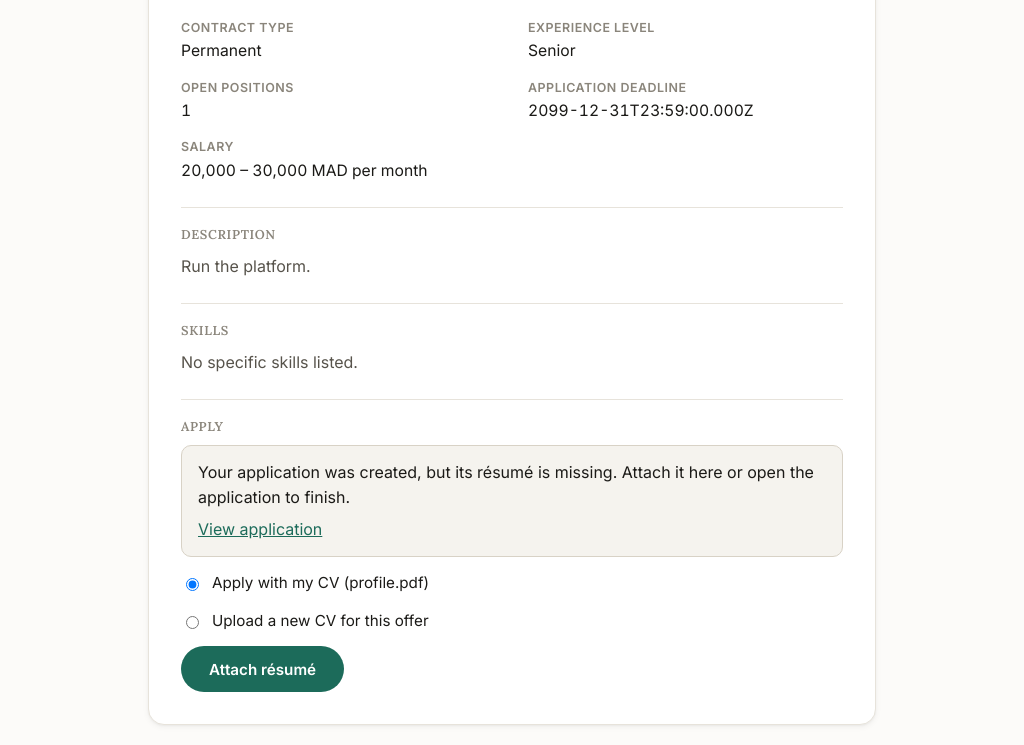
Test: a candidate › finds an incomplete application after reload and attaches without creating another
This screenshot has width=1024, height=745.
(page scrolled)
Expected: the text "Your application was created, but its résumé is missing. Attach it here or open the application to finish." is shown, left=198, top=462, right=814, bottom=507
Step 1. Click the button "Attach résumé" → (262, 669), box left=181, top=646, right=344, bottom=692
(page scrolled)
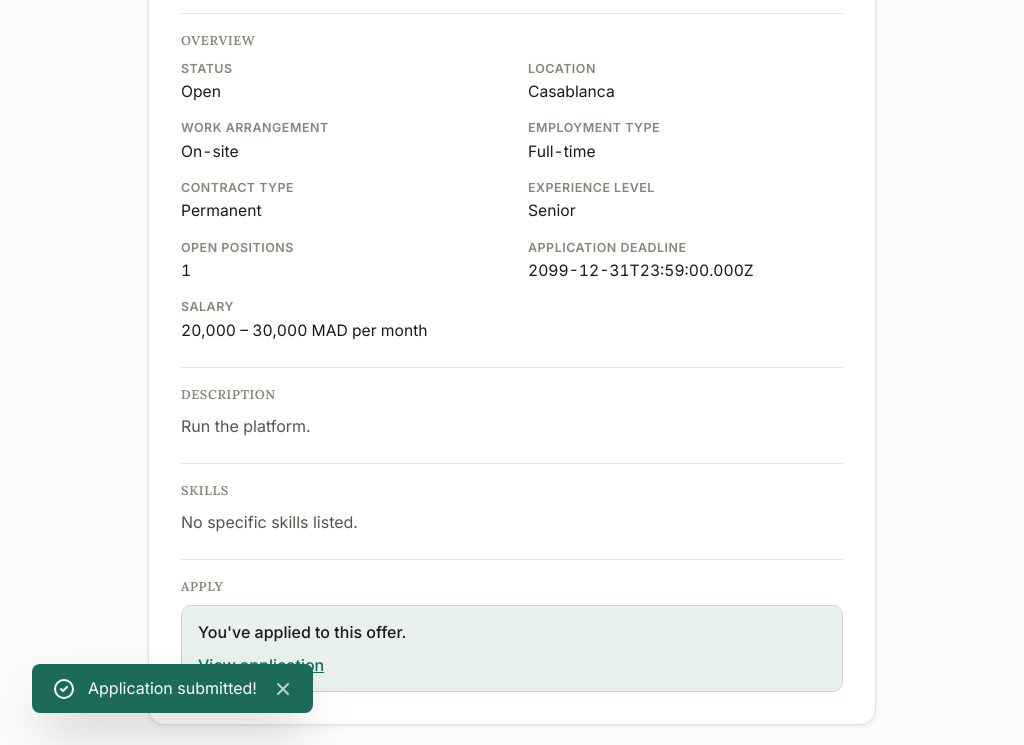
Now the text "You've applied to this offer." is shown, box left=198, top=622, right=406, bottom=642
